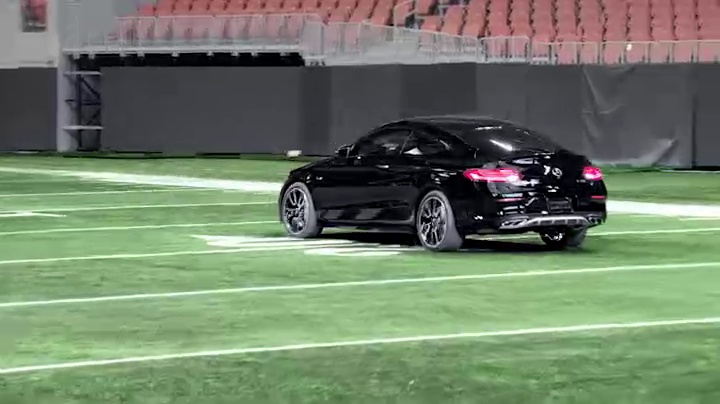amg: (280, 114, 611, 257)
